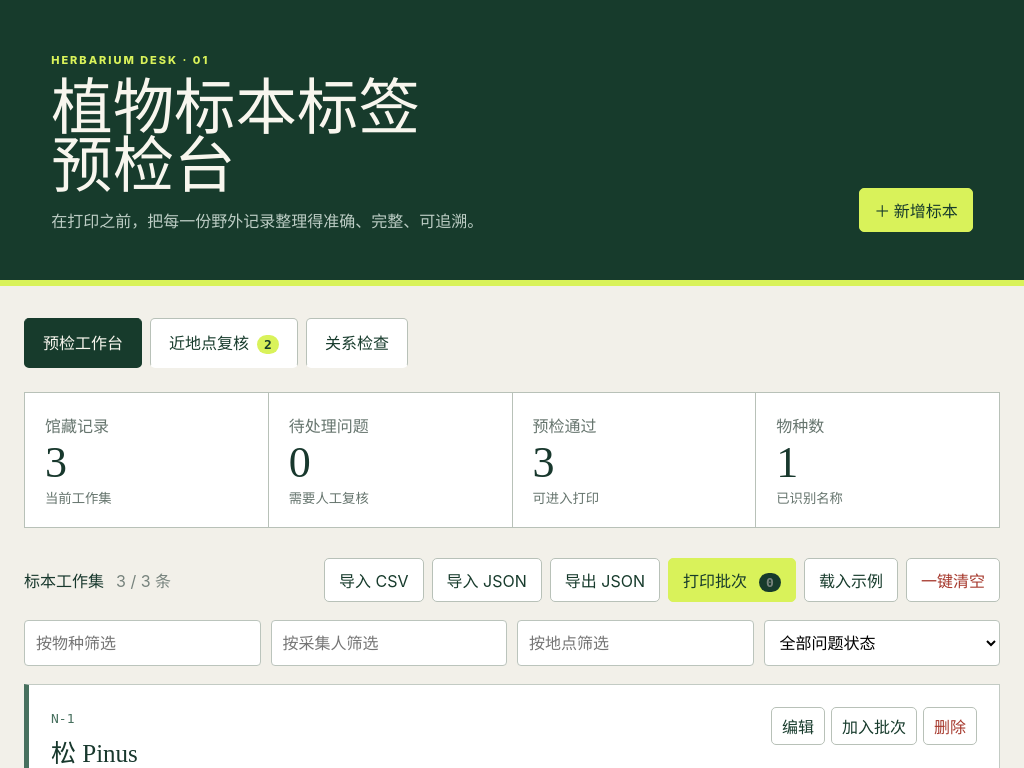
采集点关系检查（只读） › 旧版存储没有结论时显示空报告，且查看检查页不写入任何结论
Click the button "关系检查": [357, 343] box [306,318,408,368]
(page scrolled)
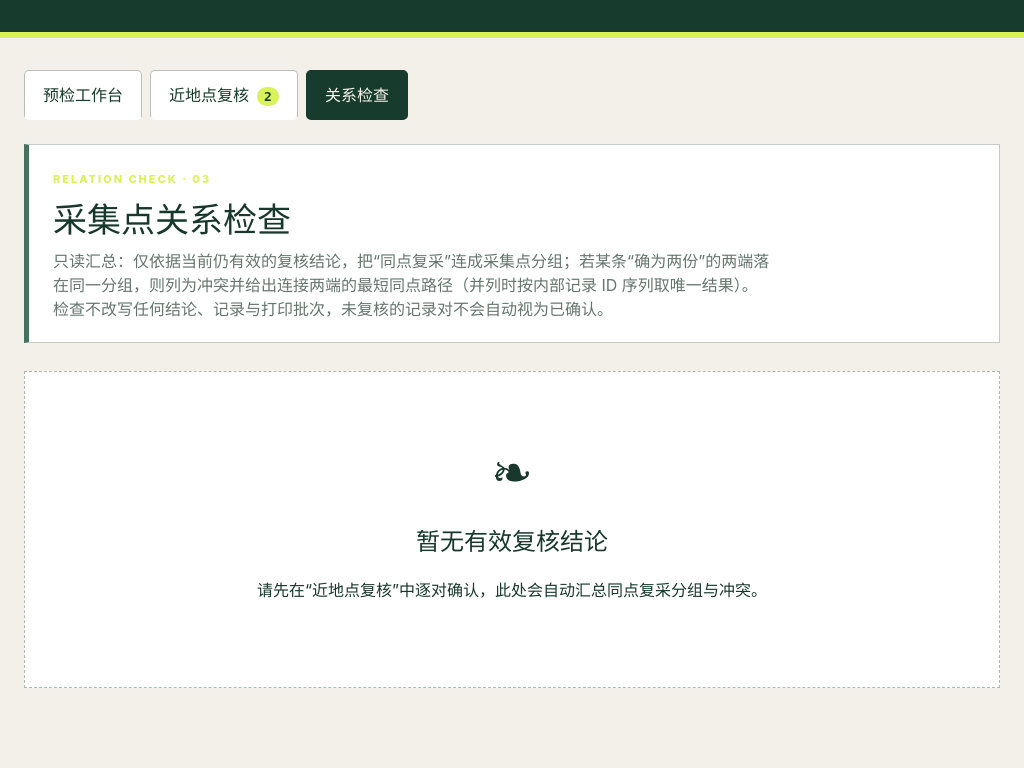
Now the heading "暂无有效复核结论" is shown, box [416,527,608,556]
